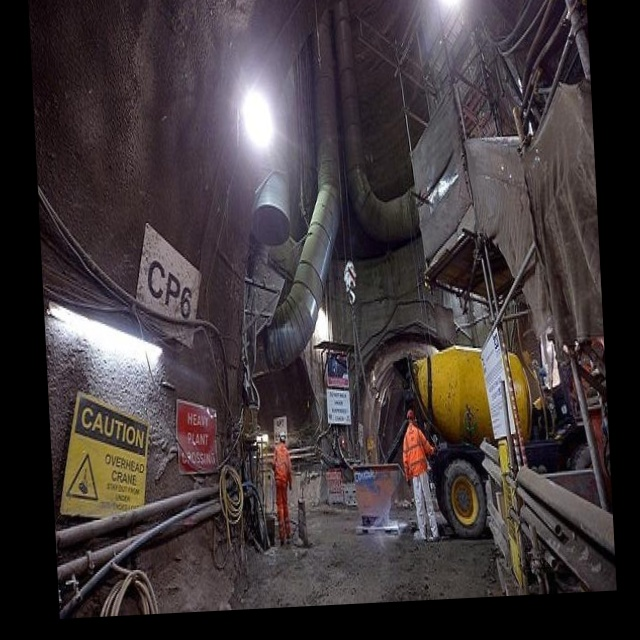Con_Chaleco: (404, 425, 428, 479)
